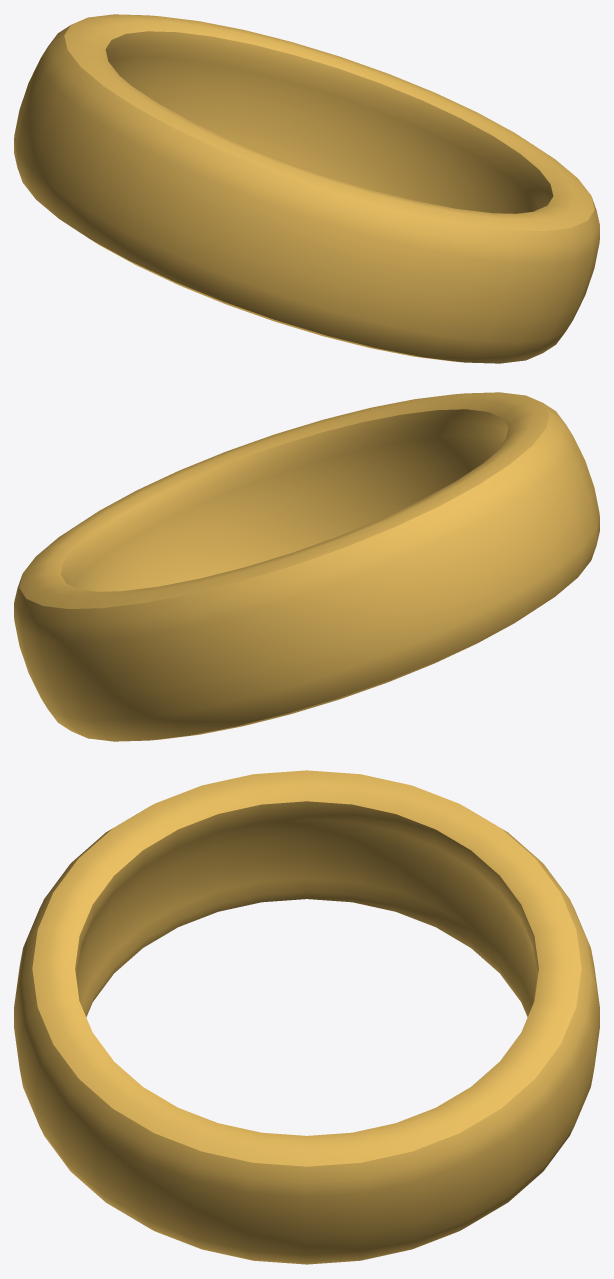
Rendered from base-ring-2.glb.
3 renders of one model, top to bottom at view 1: azimuth 30°, elevation 25°; view 2: azimuth 150°, elevation 25°; view 3: azimuth 270°, elevation 25°, orthographic.
Visible parts, largest first — view 1: Ring.001; view 2: Ring.001; view 3: Ring.001.
Part boxes in pixels (bbox=[...]): Ring.001: bbox=[14, 14, 599, 363]; Ring.001: bbox=[14, 392, 599, 741]; Ring.001: bbox=[14, 770, 599, 1264].
Size of the model in its own units: 0.4107 by 0.2371 by 0.4207.
